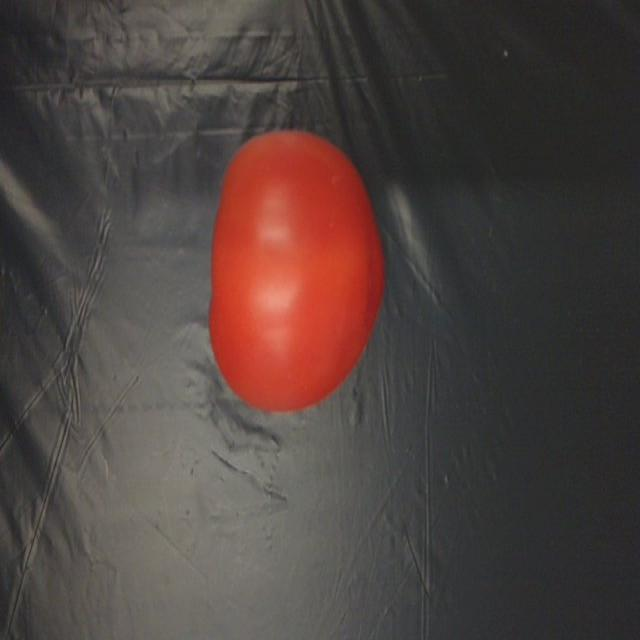kirmizi: (194, 116, 399, 414)
